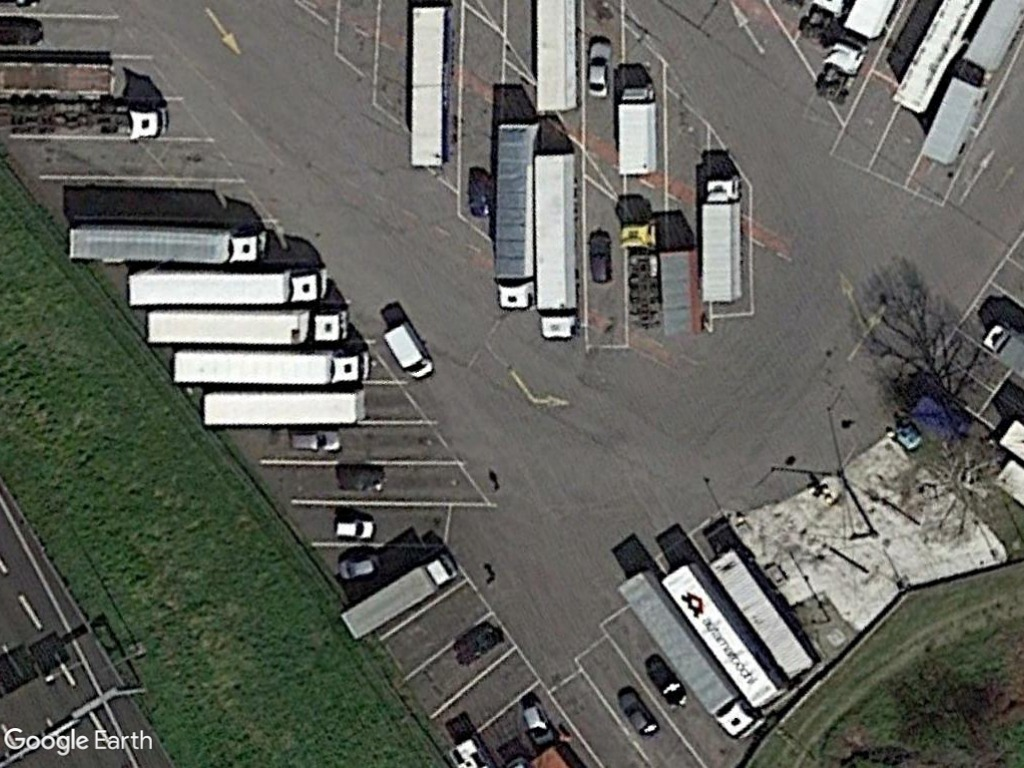car: (612, 687, 661, 738), (515, 701, 560, 749), (582, 39, 614, 103), (586, 227, 618, 286), (283, 425, 345, 454), (335, 553, 387, 584), (330, 515, 381, 543)
longvehicle: (608, 568, 768, 740), (653, 560, 788, 711), (705, 544, 819, 680), (336, 549, 463, 650), (61, 216, 272, 268), (121, 264, 334, 310), (531, 149, 578, 349), (139, 305, 353, 348), (403, 0, 454, 177), (493, 116, 538, 315), (169, 344, 373, 387), (196, 389, 373, 430), (532, 0, 585, 116)
truck: (695, 171, 743, 307), (612, 82, 658, 182)
van: (380, 320, 438, 381)
